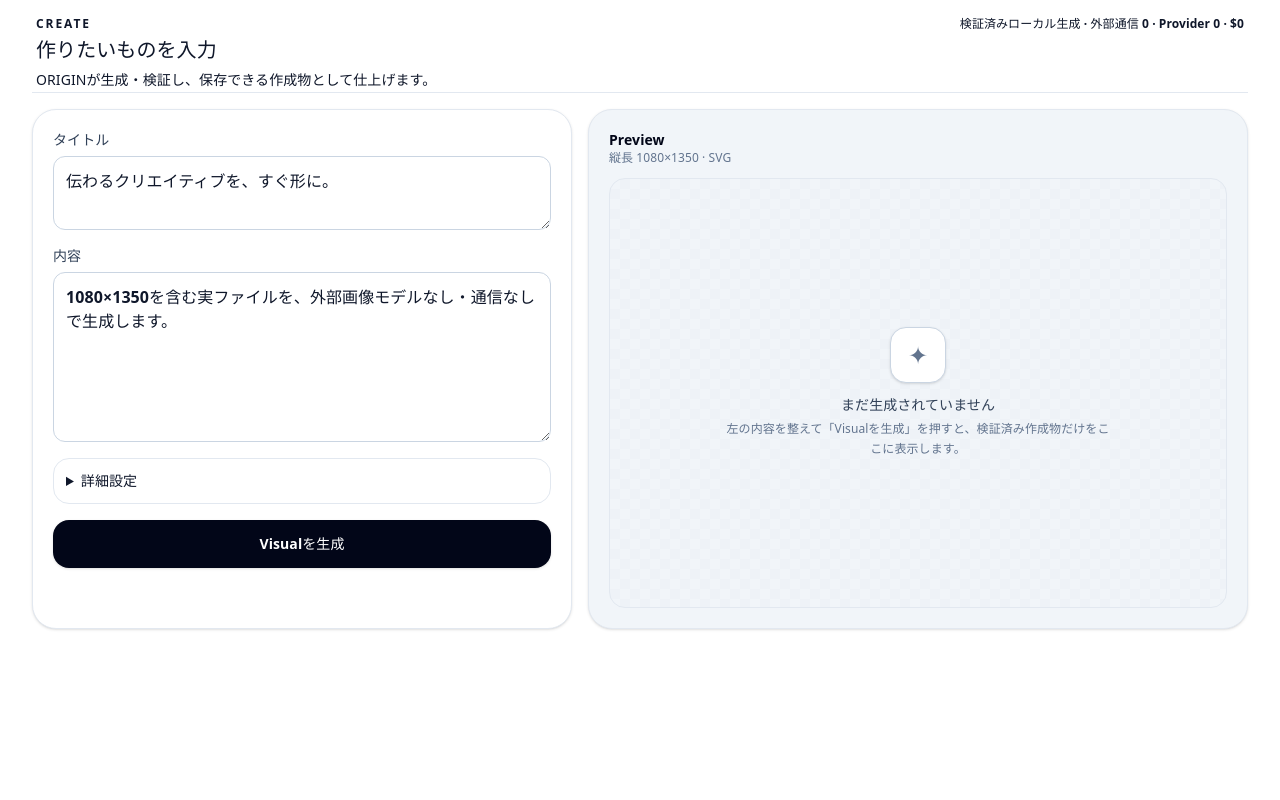
Test: CreativeWorkspaceV15 › rejects an artifact response without verified evidence
Expected: the text "検証済みローカル生成 · 外部通信 0 · Provider 0 · $0" is shown, [960,16,1244,32]
Step 1. Click the button "Visualを生成" → coordinates (302, 544), box [53,520,551,568]
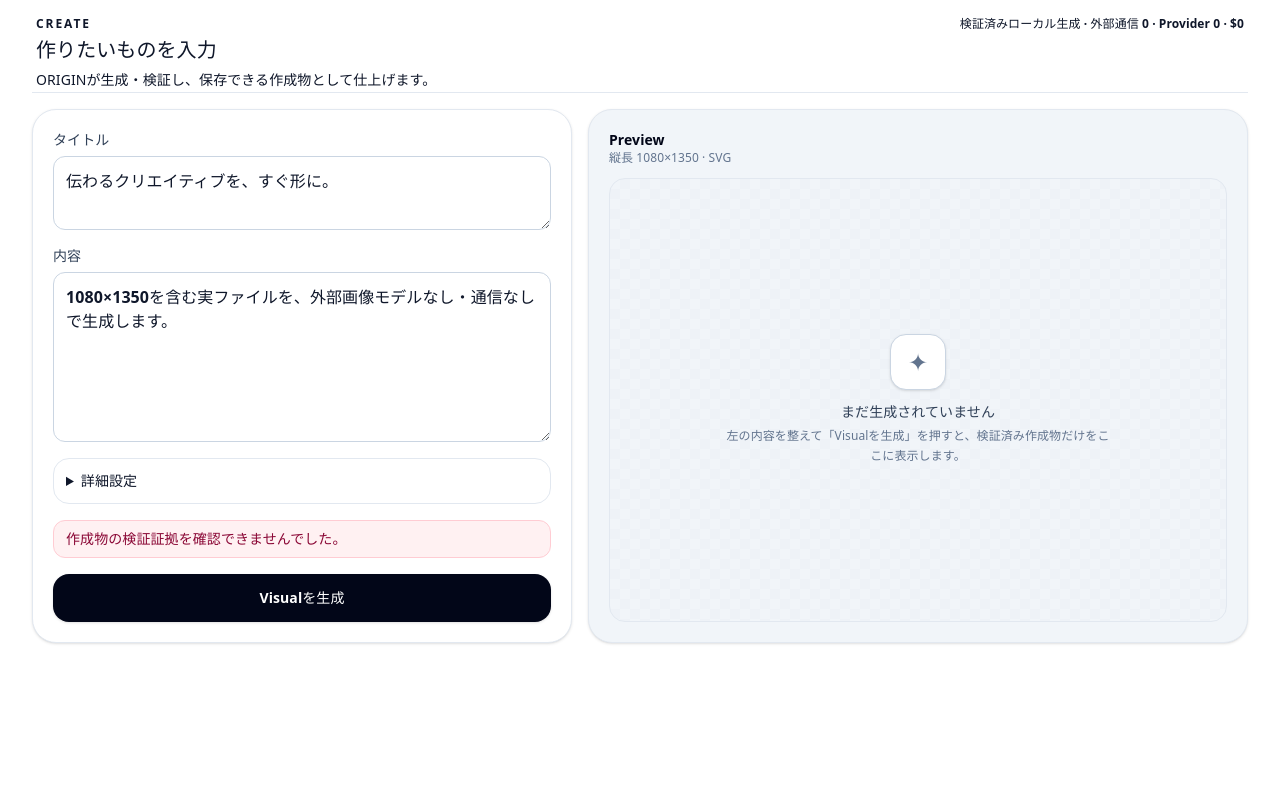
Result: the text "作成物の検証証拠を確認できませんでした。" is shown at [53,520,551,558]
